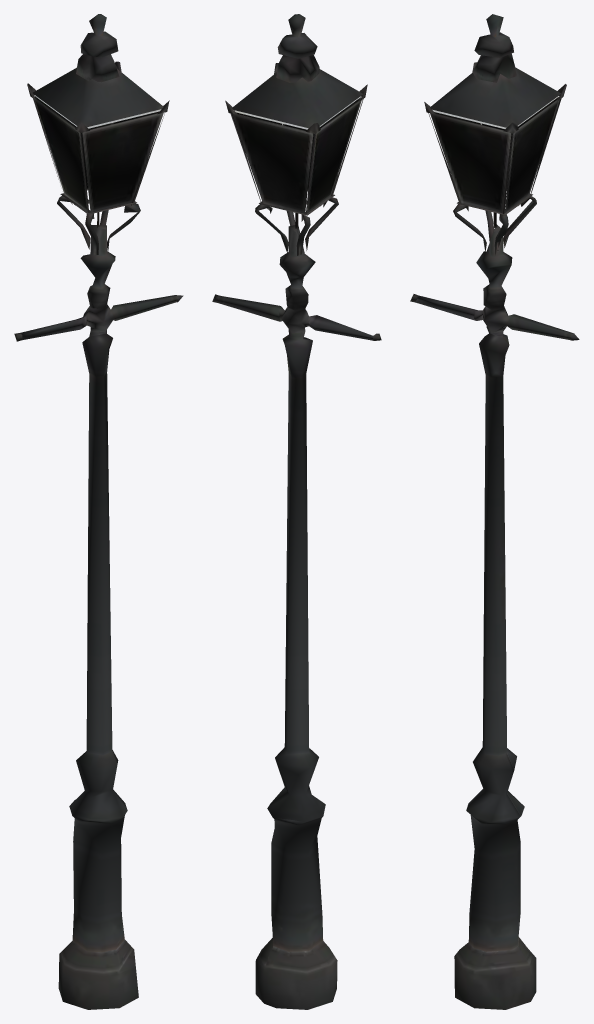
Rendered from lampadaire_fonte_lod2.glb.
3 renders of one model, left to right at view 1: azimuth 30°, elevation 25°; view 2: azimuth 150°, elevation 25°; view 3: azimuth 330°, elevation 25°, orthographic.
Visible parts, largest first — view 1: street_lamp_01; view 2: street_lamp_01; view 3: street_lamp_01.
Boxes of the visible parts, left/top/right/bottom form: street_lamp_01: left=14, top=14, right=183, bottom=1009; street_lamp_01: left=212, top=14, right=381, bottom=1009; street_lamp_01: left=410, top=14, right=579, bottom=1009.
Size of the model in its own units: 0.6892 by 3.87 by 0.3857.
Materials: 2 (2 with a texture image).
